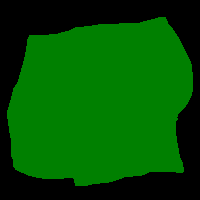mutande: (7, 16, 193, 186)
